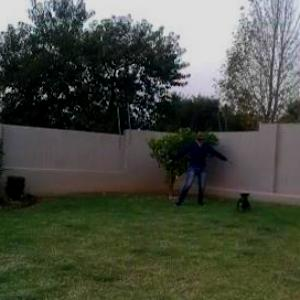land: (152, 116, 228, 218)
